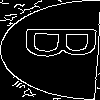B: (25, 25, 100, 60)
